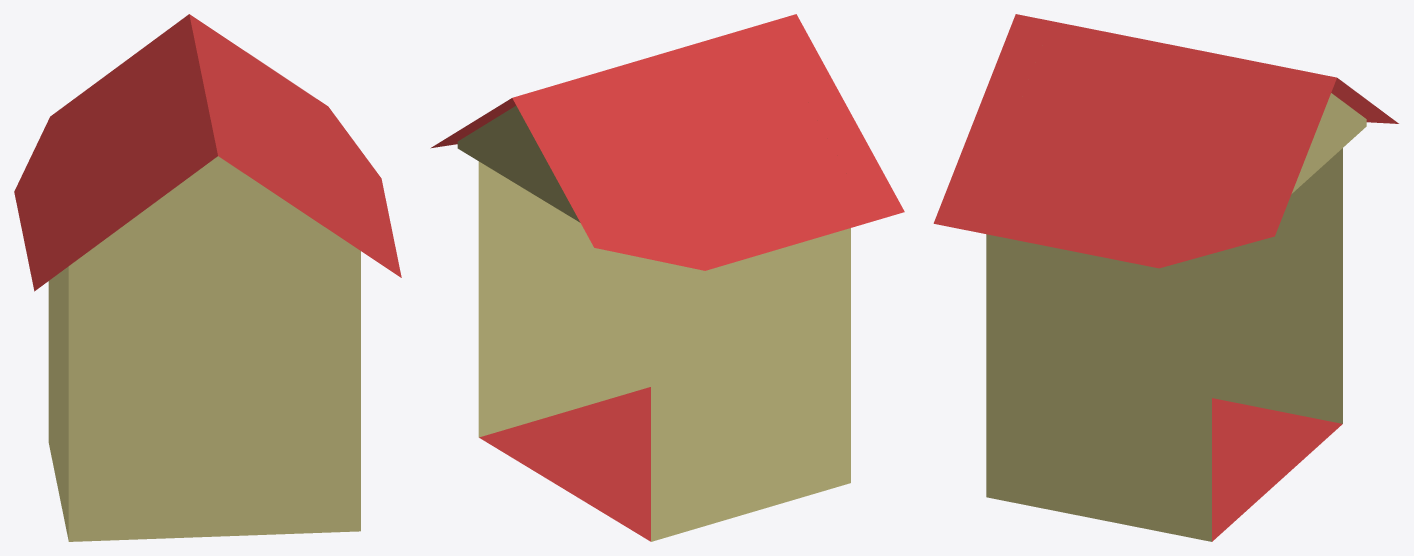
3 views of the same model, side by side, from view 1: azimuth 30°, elevation 25°; view 2: azimuth 150°, elevation 25°; view 3: azimuth 270°, elevation 25° (orthographic). The views are drawn at different scales.
Size of the model in its own units: 11.55 by 11.72 by 11.58.
